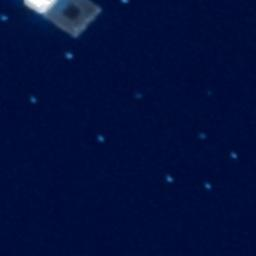square_cover: (44, 1, 107, 42)
